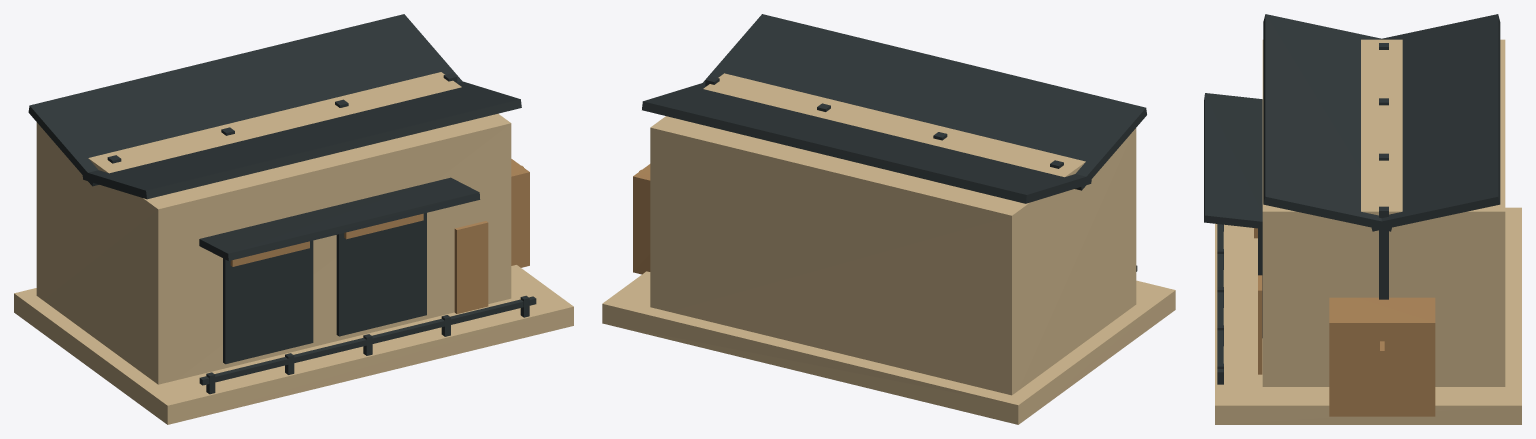
Rendered from Export-Warehouse.glb.
3 views of the same model, side by side, from view 1: azimuth 30°, elevation 25°; view 2: azimuth 150°, elevation 25°; view 3: azimuth 270°, elevation 25° (orthographic). The views are drawn at different scales.
Visible parts, largest first — view 1: export-warehouse-static-export-warehouse-charcoal-steel, export-warehouse-static-export-warehouse-cream-wall-panels, export-warehouse-static-export-warehouse-pale-concrete, export-warehouse-static-export-warehouse-muted-teal-doors, export-warehouse-static-export-warehouse-warm-timber-office; view 2: export-warehouse-static-export-warehouse-cream-wall-panels, export-warehouse-static-export-warehouse-charcoal-steel, export-warehouse-static-export-warehouse-pale-concrete, export-warehouse-static-export-warehouse-warm-timber-office; view 3: export-warehouse-static-export-warehouse-charcoal-steel, export-warehouse-static-export-warehouse-cream-wall-panels, export-warehouse-static-export-warehouse-pale-concrete, export-warehouse-static-export-warehouse-warm-timber-office, export-warehouse-static-export-warehouse-muted-teal-doors.
Boxes of the visible parts, <box> form: export-warehouse-static-export-warehouse-charcoal-steel: <box>28,14,536,394</box>; export-warehouse-static-export-warehouse-cream-wall-panels: <box>36,72,511,384</box>; export-warehouse-static-export-warehouse-pale-concrete: <box>14,265,573,424</box>; export-warehouse-static-export-warehouse-muted-teal-doors: <box>230,165,523,313</box>; export-warehouse-static-export-warehouse-warm-timber-office: <box>511,159,529,267</box>; export-warehouse-static-export-warehouse-cream-wall-panels: <box>650,73,1136,395</box>; export-warehouse-static-export-warehouse-charcoal-steel: <box>642,14,1146,271</box>; export-warehouse-static-export-warehouse-pale-concrete: <box>602,271,1175,424</box>; export-warehouse-static-export-warehouse-warm-timber-office: <box>633,164,650,274</box>; export-warehouse-static-export-warehouse-charcoal-steel: <box>1204,14,1500,384</box>; export-warehouse-static-export-warehouse-cream-wall-panels: <box>1262,39,1505,386</box>; export-warehouse-static-export-warehouse-pale-concrete: <box>1215,207,1521,424</box>; export-warehouse-static-export-warehouse-warm-timber-office: <box>1329,297,1435,416</box>; export-warehouse-static-export-warehouse-muted-teal-doors: <box>1254,228,1384,377</box>.
Size of the model in its own units: 9.08 by 4.25 by 5.69.
